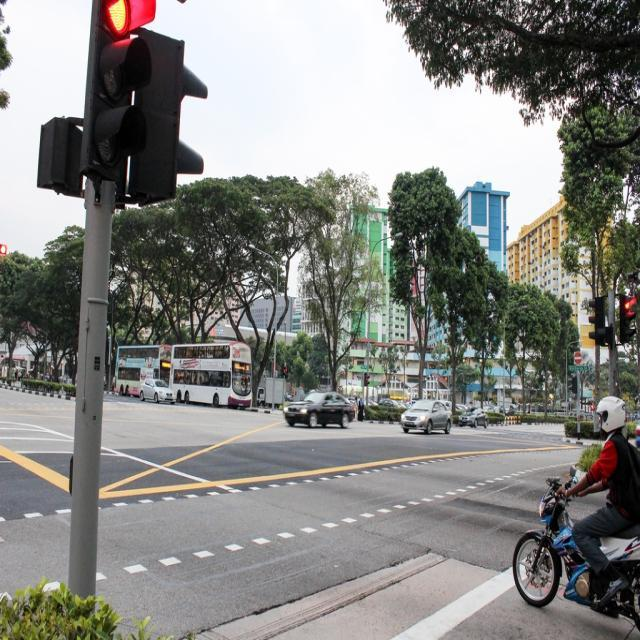off traffic light: (139, 30, 208, 203), (589, 296, 606, 345)
traffic light: (87, 0, 156, 181), (620, 294, 637, 344), (364, 370, 370, 386), (283, 365, 289, 380)
